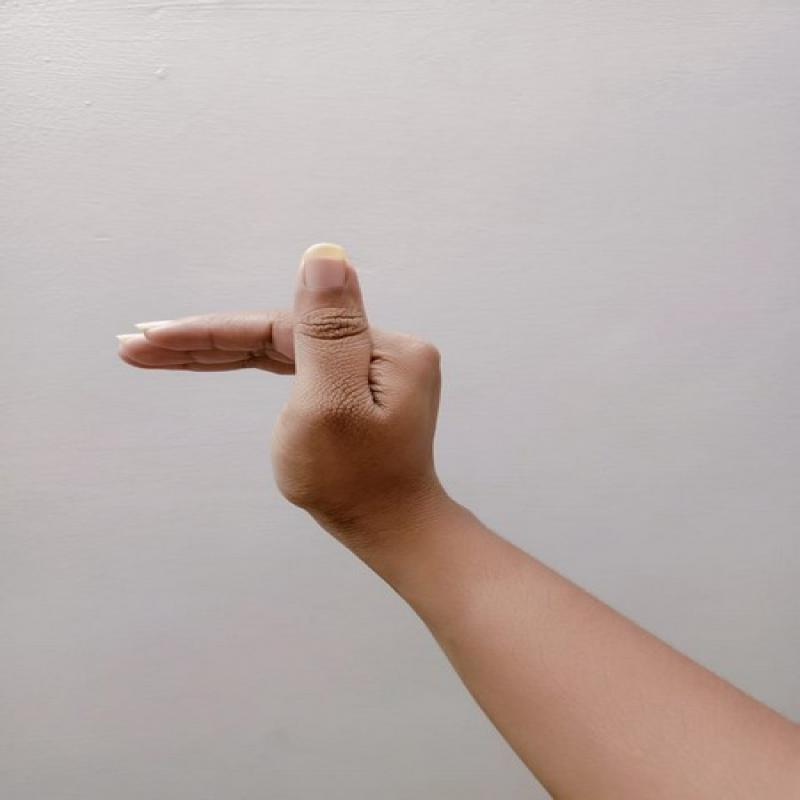Kartharee Mukham: (102, 235, 455, 547)
